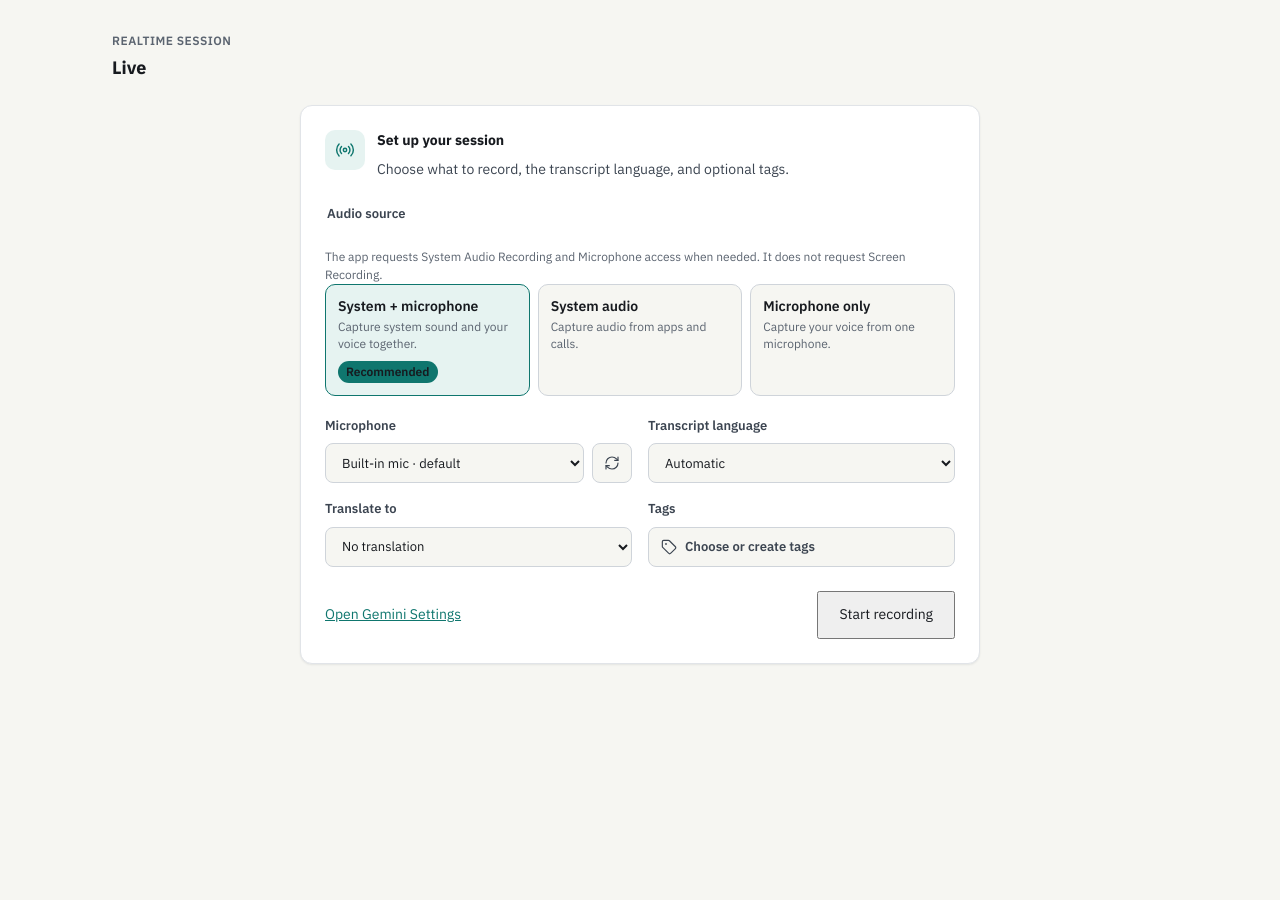
Live translation › hides Re-detect when the session language is fixed
Check: the button "Start recording" is enabled, box [818,591,955,639]
Select "Japanese" in the dropdown labelled "Transcript language" at [802, 464], box [648,444,955,484]
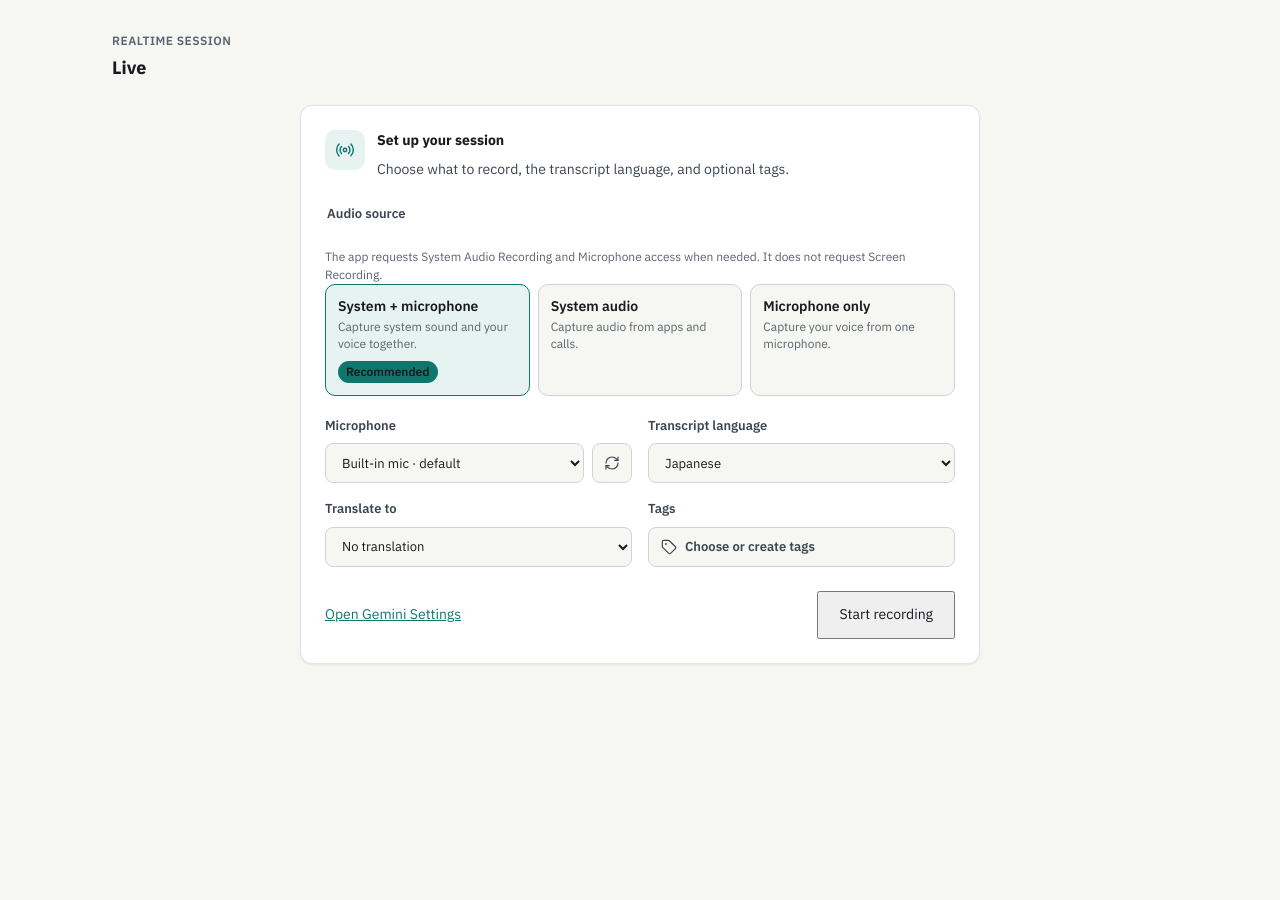
Click the button "Start recording" at [886, 615], box [818,591,955,639]
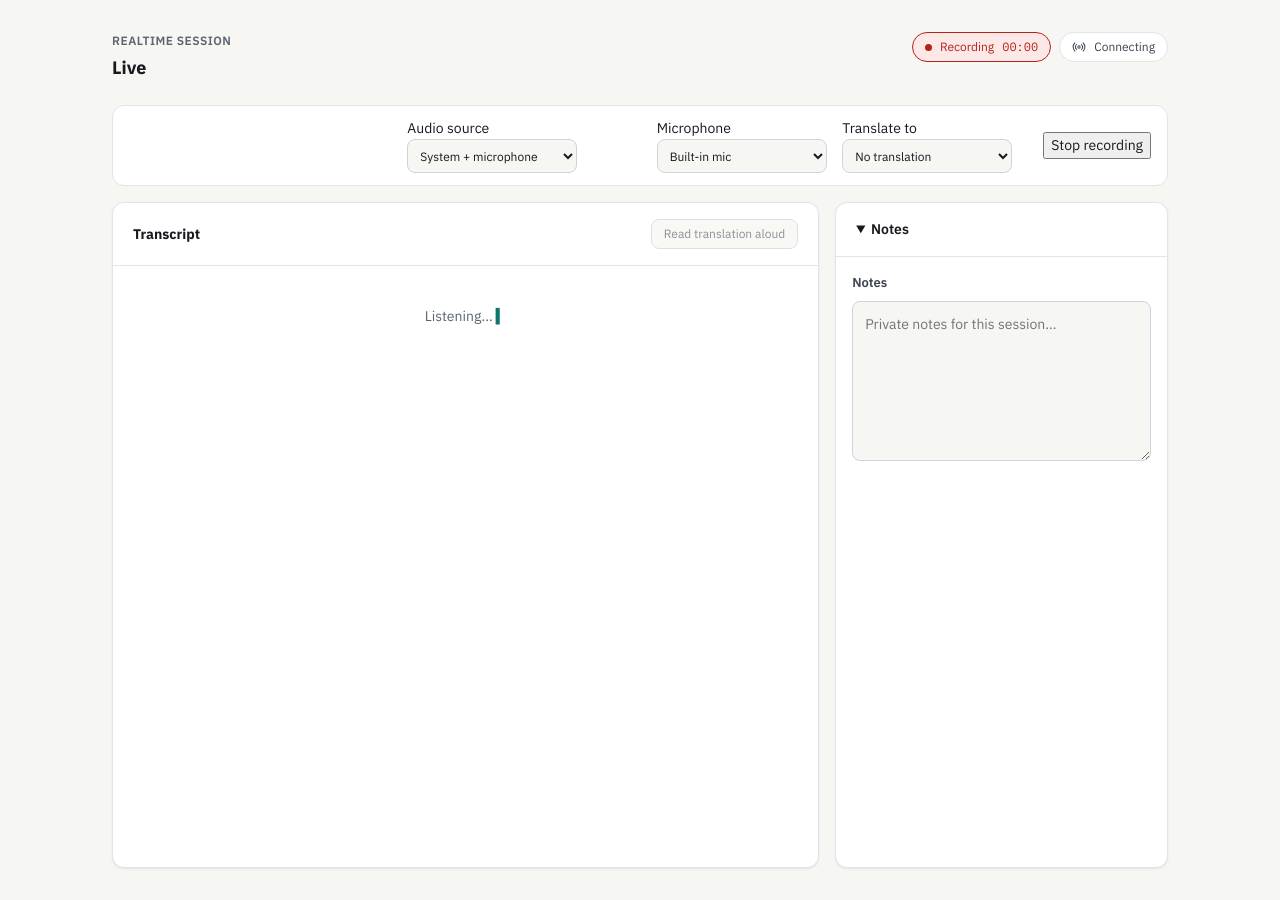
Check: the button "Stop recording" is shown, box [1043,132,1151,159]
